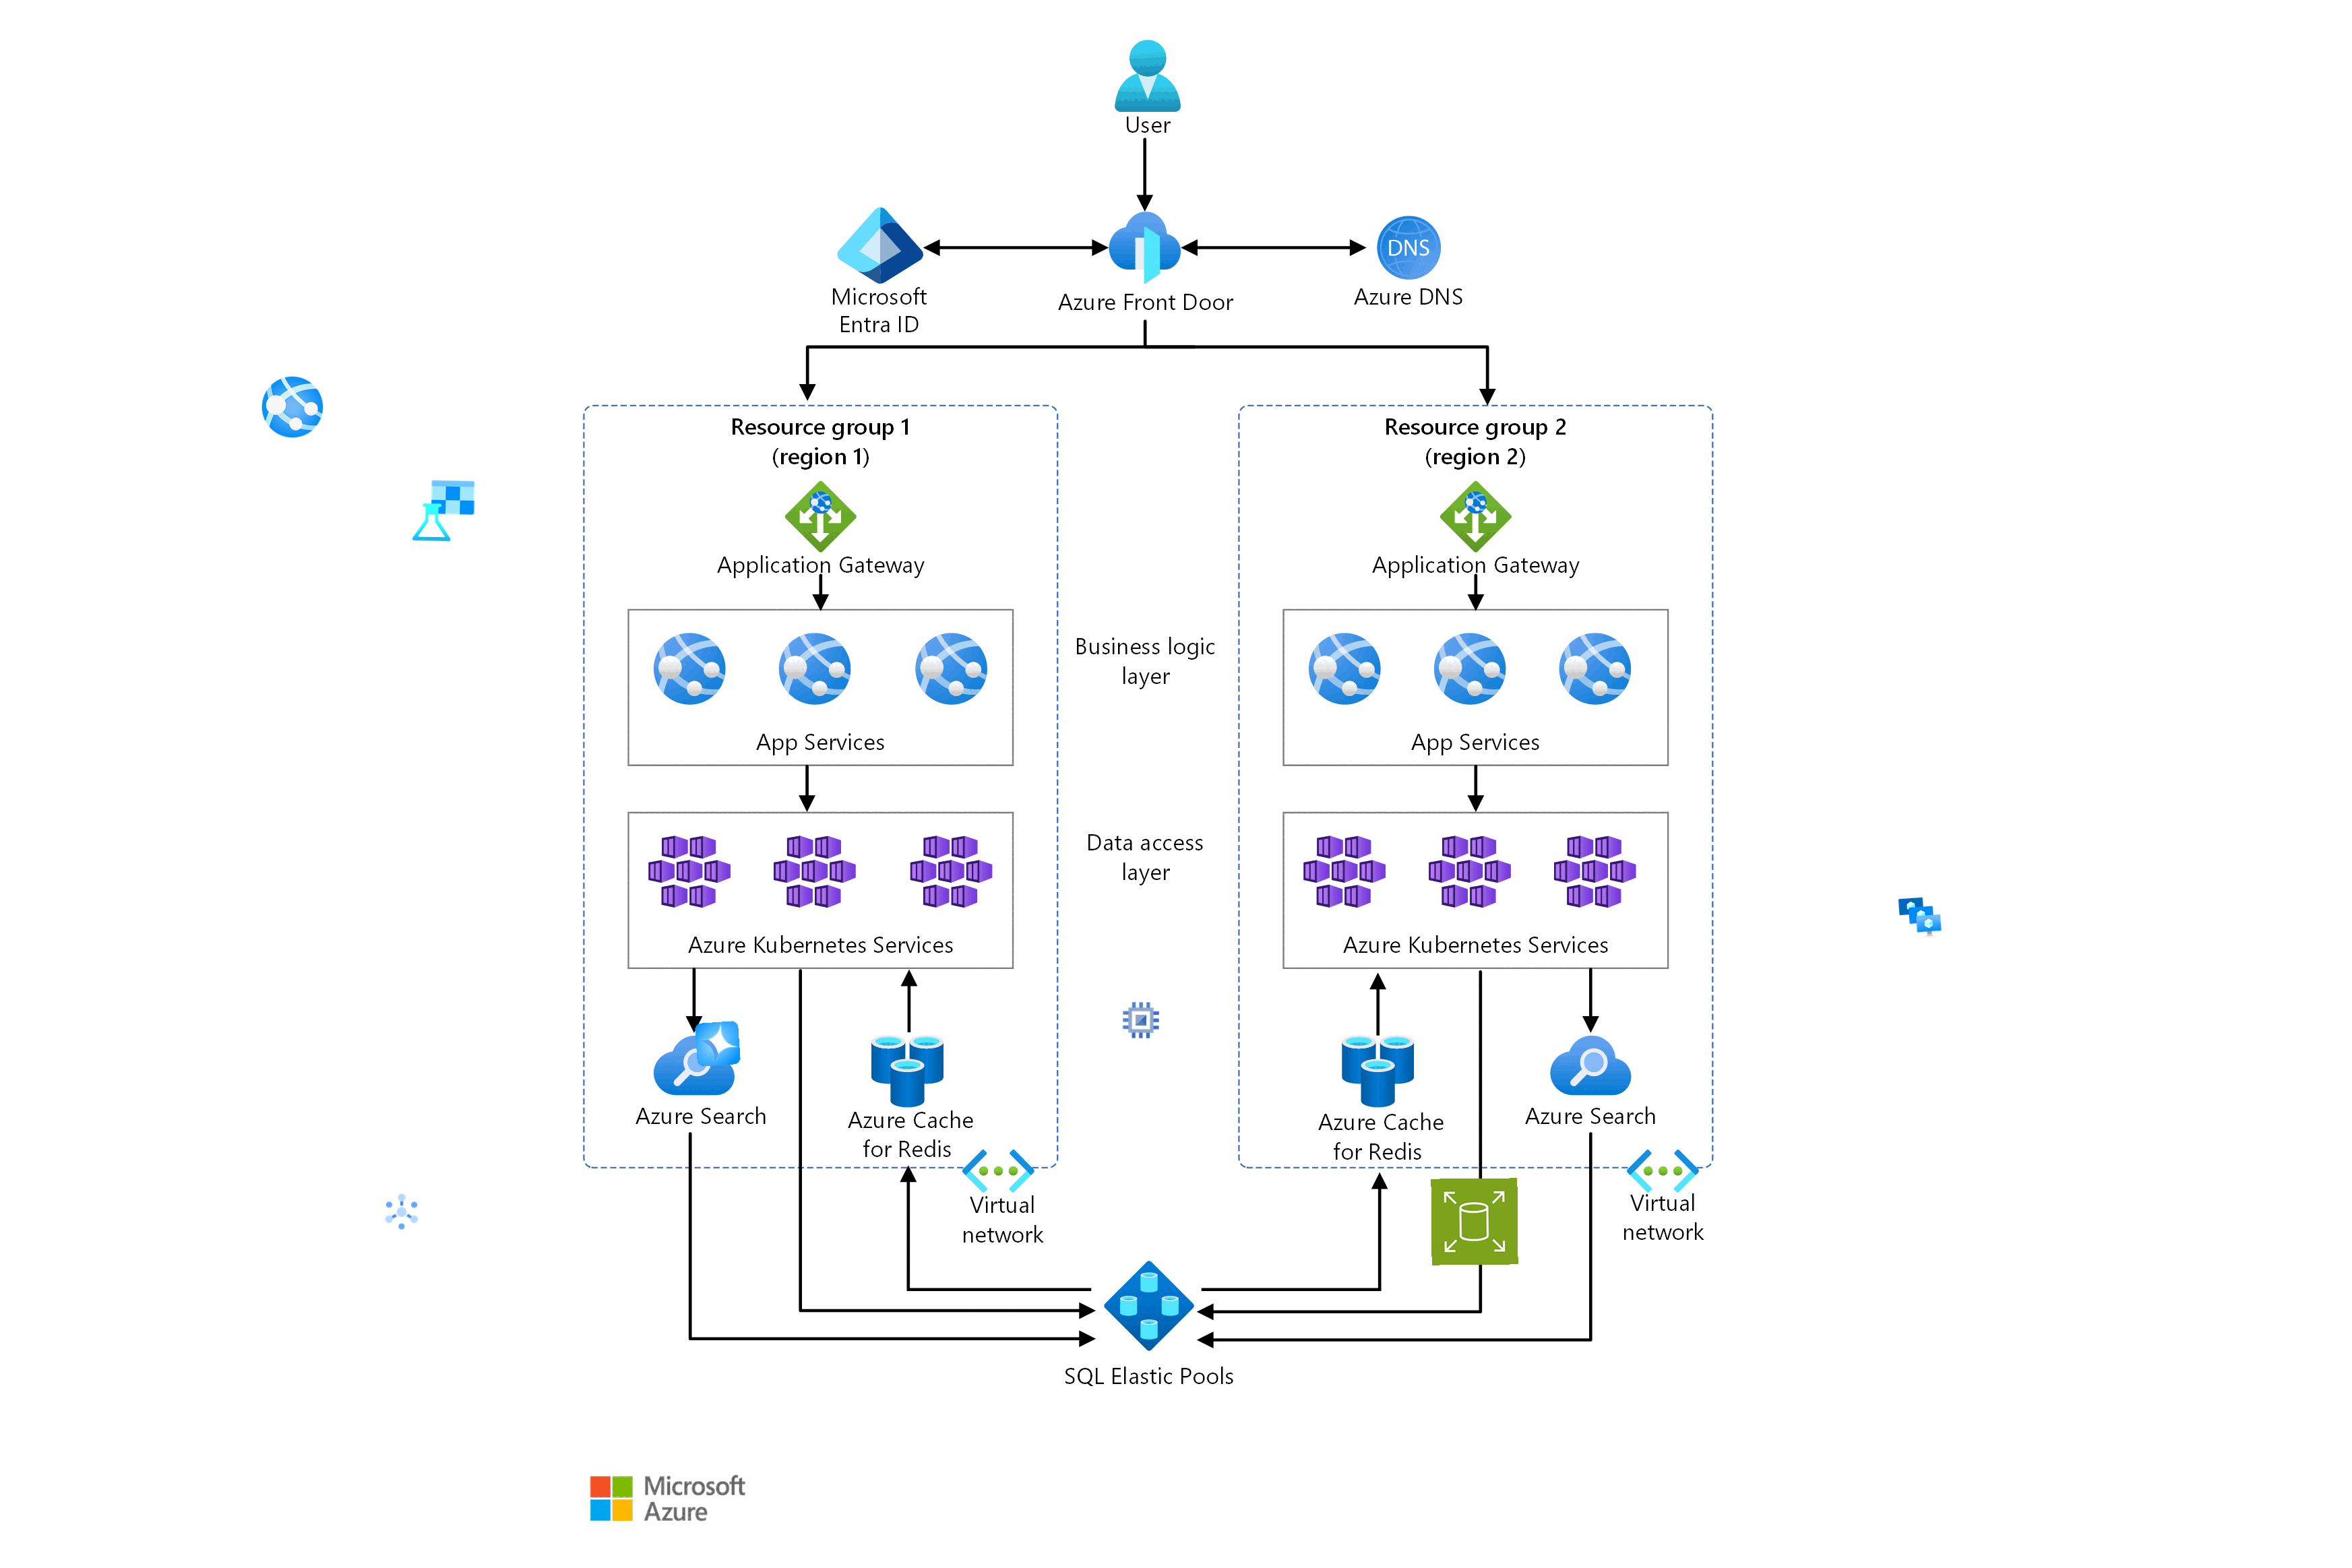aws_amazon_elastic_block_store: (1431, 1178, 1519, 1265)
azure_app_services: (257, 373, 327, 441)
azure_machine_learning_studio_workspaces: (411, 478, 476, 544)
azure_openai: (695, 1020, 742, 1067)
azure_vm_scale_sets: (1895, 894, 1942, 942)
gcp_compute_engine: (1118, 997, 1164, 1043)
gcp_pubsub: (380, 1190, 424, 1234)
